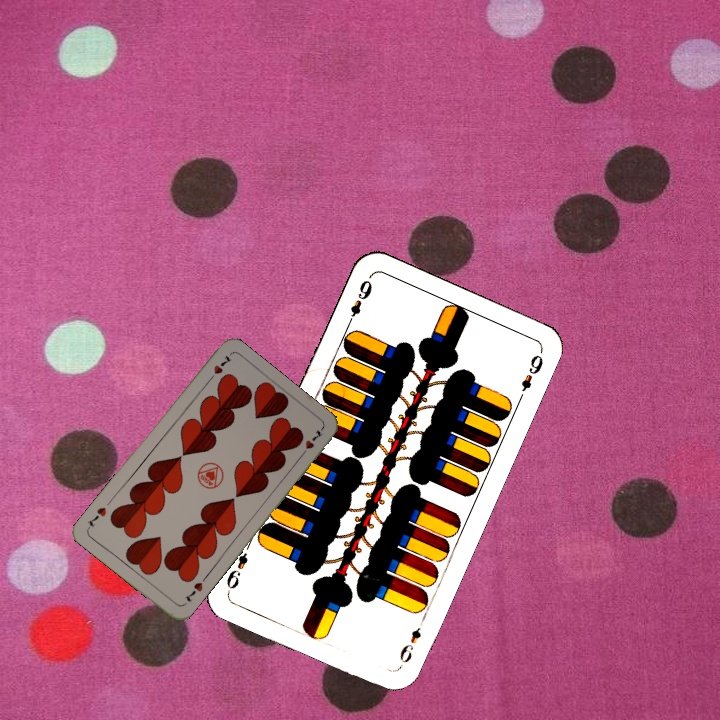E9: (343, 273, 375, 329), (395, 614, 427, 669)
H7: (203, 351, 234, 385), (180, 578, 205, 604)
